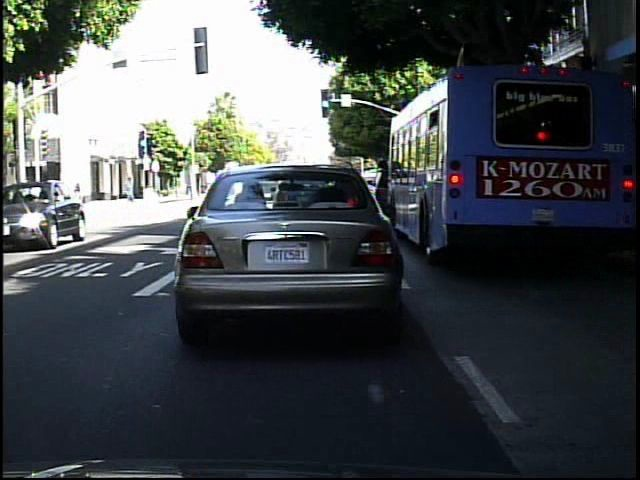person: (69, 175, 88, 213), (57, 175, 74, 215), (14, 177, 30, 218), (29, 176, 44, 217), (122, 172, 139, 207), (48, 179, 64, 216), (10, 178, 27, 212)
